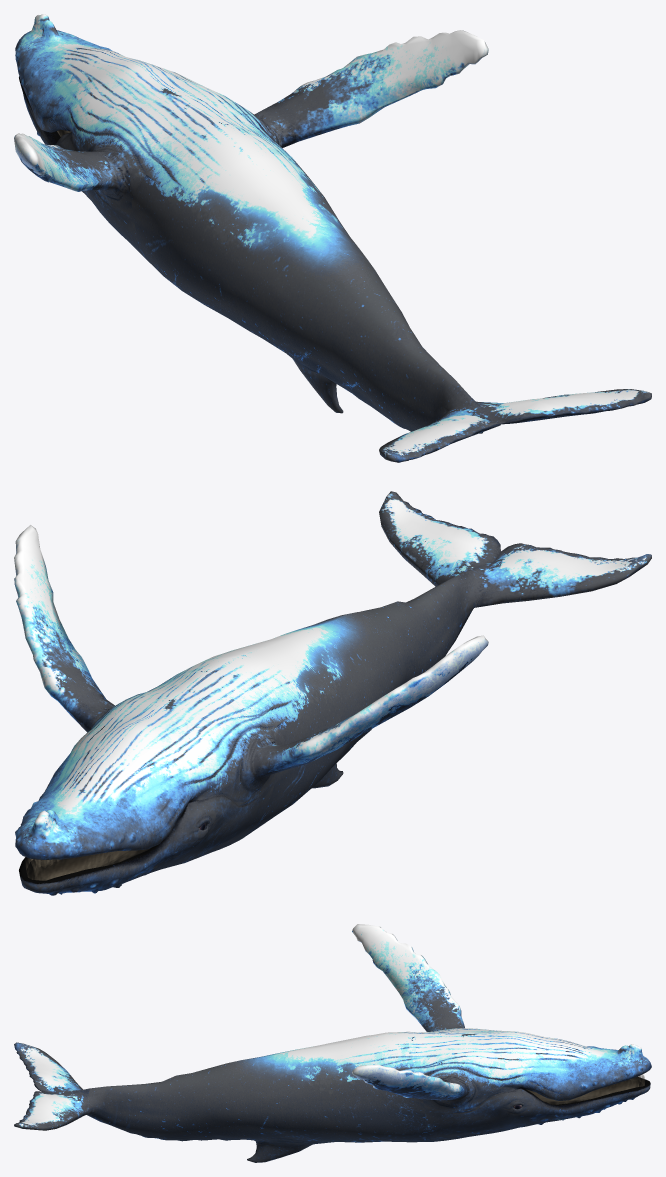
Rendered from whale_blue_new.glb.
3 views of the same model, one above another, from view 1: azimuth 30°, elevation 25°; view 2: azimuth 150°, elevation 25°; view 3: azimuth 270°, elevation 25° (orthographic). The views are drawn at different scales.
Parts seen in each view (by area): view 1: HumpBackWhaleC_Humpback_0; view 2: HumpBackWhaleC_Humpback_0, BarbsC_OThers_0; view 3: HumpBackWhaleC_Humpback_0, BarbsC_OThers_0.
Part boxes in pixels (x1,y1,x2,y2): HumpBackWhaleC_Humpback_0: [14, 14, 651, 462]; HumpBackWhaleC_Humpback_0: [14, 491, 651, 895]; BarbsC_OThers_0: [25, 848, 149, 880]; HumpBackWhaleC_Humpback_0: [14, 924, 651, 1162]; BarbsC_OThers_0: [526, 1074, 644, 1104].
Size of what is drawn, in the model's own units: 10.56 by 5.72 by 19.68.
Materials: 2 (2 with a texture image).
